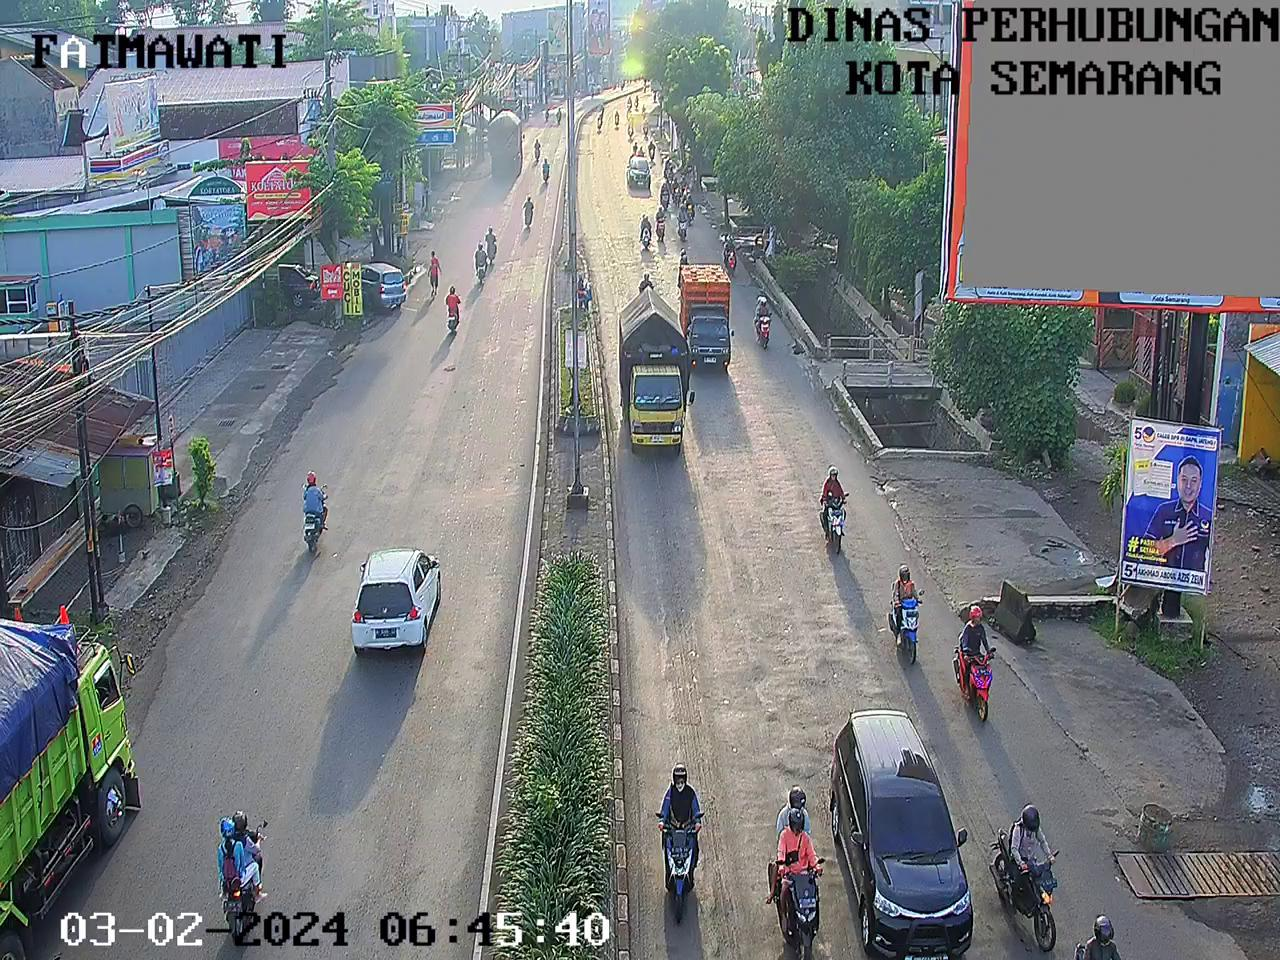car: (833, 705, 969, 960), (667, 258, 750, 371), (628, 149, 655, 190)
motorcycle: (777, 750, 834, 960), (649, 753, 713, 909), (997, 791, 1060, 944), (892, 563, 938, 651), (811, 461, 854, 543), (957, 590, 991, 687), (1089, 901, 1113, 960), (633, 208, 659, 251), (678, 250, 707, 286), (756, 297, 781, 336), (674, 206, 690, 241), (641, 272, 664, 296), (652, 205, 668, 234), (725, 230, 737, 267), (687, 193, 700, 223), (672, 178, 684, 205), (661, 181, 673, 205), (664, 159, 677, 181), (641, 115, 654, 134), (681, 173, 692, 195), (633, 141, 642, 159), (628, 119, 636, 137), (598, 108, 605, 127), (647, 141, 655, 157), (614, 106, 621, 124), (641, 103, 649, 118), (627, 94, 634, 111), (652, 88, 659, 103), (634, 92, 641, 105), (643, 81, 649, 92)
truck: (607, 293, 714, 449)
